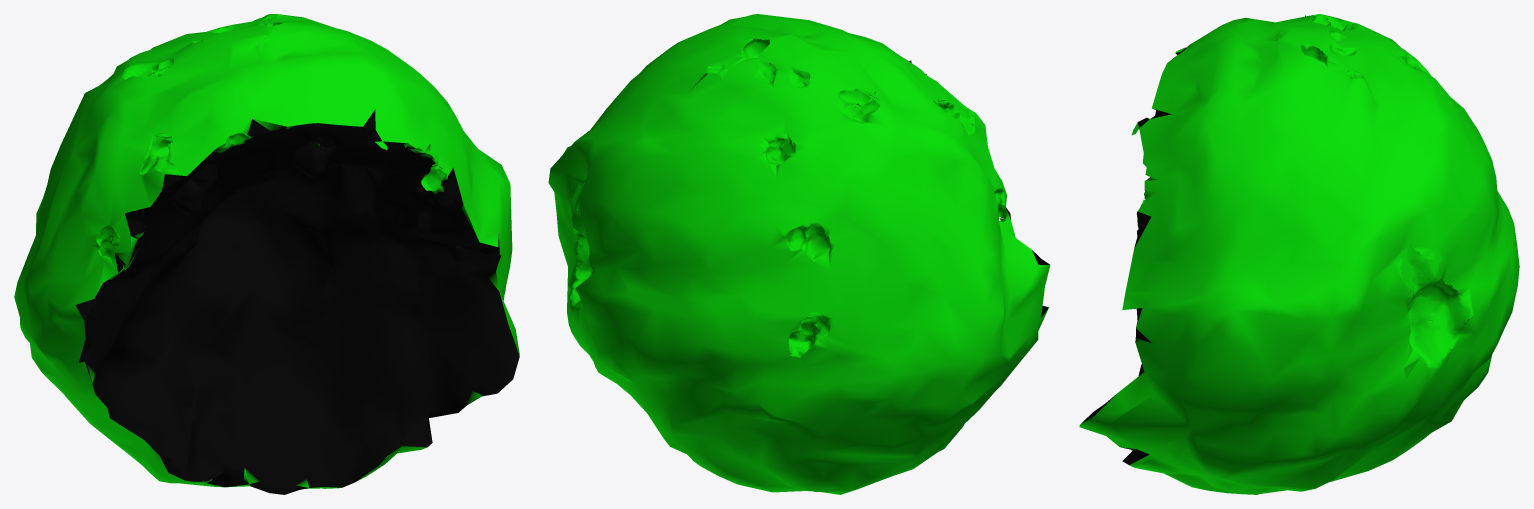
Rendered from Astroid LargeHugeCrater.fbx.
3 views of the same model, side by side, from view 1: azimuth 30°, elevation 25°; view 2: azimuth 150°, elevation 25°; view 3: azimuth 270°, elevation 25° (orthographic).
Visible parts, largest first — view 1: polySurface66; view 2: polySurface66; view 3: polySurface66.
Part boxes in pixels (left/top/right/bottom): polySurface66: left=14, top=14, right=519, bottom=494; polySurface66: left=548, top=14, right=1050, bottom=494; polySurface66: left=1079, top=14, right=1519, bottom=494.
Bounding box in the file's own units: 197 × 187 × 167.
